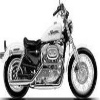faced: (35, 44, 69, 75)
